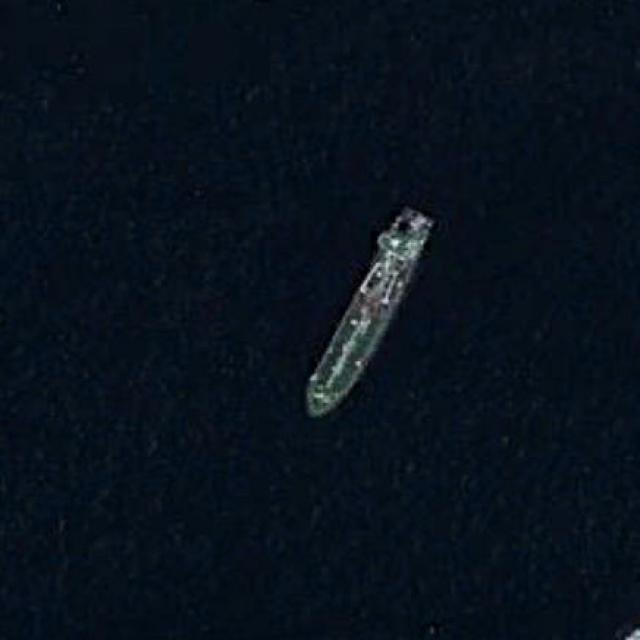boat: (304, 204, 431, 419)
